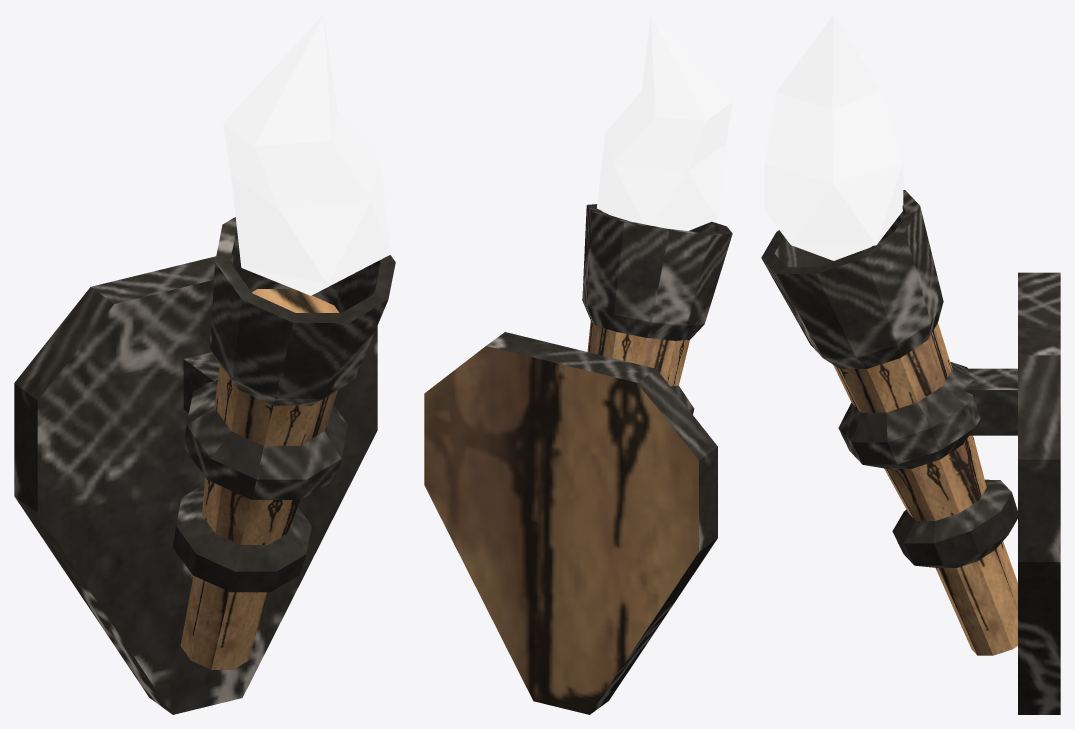
The model's file is torch.glb.
The picture shows the model from 3 angles, left to right: view 1: azimuth 30°, elevation 25°; view 2: azimuth 150°, elevation 25°; view 3: azimuth 270°, elevation 25°; orthographic projection. The views are drawn at different scales.
Visible parts, largest first — view 1: Torch Holder, Torch fire.001; view 2: Torch Holder, Torch fire.001; view 3: Torch Holder, Torch fire.001.
Boxes of the visible parts, x1,y1,x2,y2 form: Torch Holder: [14, 217, 395, 714]; Torch fire.001: [223, 14, 390, 295]; Torch Holder: [424, 204, 732, 714]; Torch fire.001: [597, 14, 732, 230]; Torch Holder: [761, 190, 1060, 714]; Torch fire.001: [764, 14, 903, 260].
Size of the model in its own units: 0.1336 by 0.2868 by 0.1125.
Materials: 3 (2 with a texture image).
